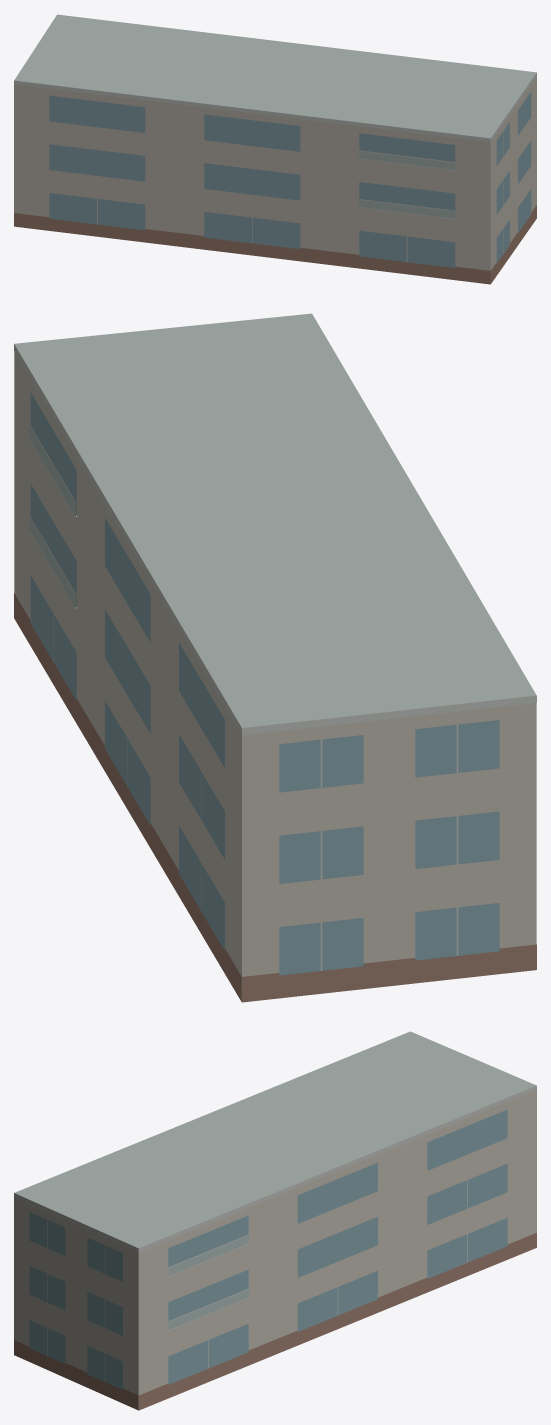
Rendered from survey-upis-32925325.glb.
The picture shows the model from 3 angles, top to bottom: view 1: azimuth 30°, elevation 25°; view 2: azimuth 150°, elevation 25°; view 3: azimuth 270°, elevation 25°; orthographic projection. The views are drawn at different scales.
Visible parts, largest first — view 1: survey-upis-32925325.tmp; view 2: survey-upis-32925325.tmp; view 3: survey-upis-32925325.tmp.
Boxes of the visible parts, <box> form: survey-upis-32925325.tmp: <box>14,14,536,284</box>; survey-upis-32925325.tmp: <box>14,313,536,1002</box>; survey-upis-32925325.tmp: <box>14,1031,536,1410</box>.
Bounding box in the file's own units: 26.27 × 9.15 × 26.74.
